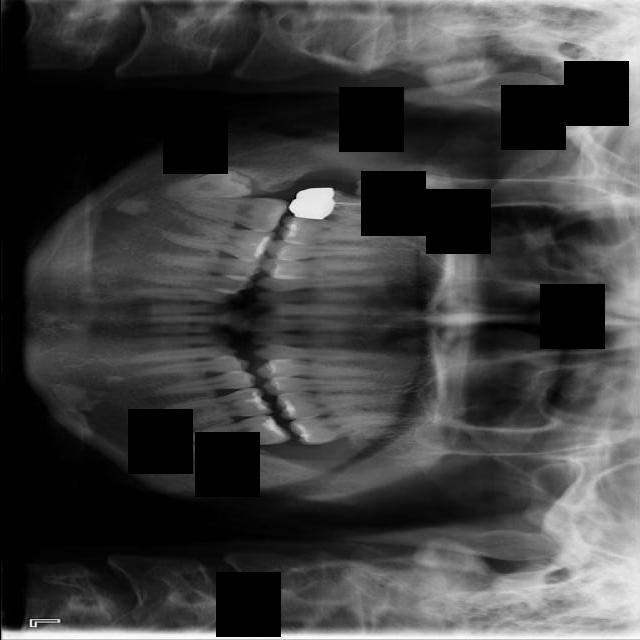3M ESPE Implant: (351, 169, 441, 207)
52: (230, 224, 277, 266), (274, 209, 323, 248), (286, 411, 331, 452), (273, 386, 317, 427), (253, 254, 312, 283), (287, 187, 335, 221), (241, 415, 291, 445), (229, 388, 273, 417), (264, 238, 313, 263), (254, 357, 300, 380), (261, 376, 303, 396), (222, 370, 258, 390)
73: (328, 189, 414, 229), (12, 624, 17, 632)
BioHorizons Implant: (288, 409, 403, 447)
Biomet 3i Implant: (164, 169, 252, 200)
Blue Sky Bio Implant: (176, 189, 289, 234), (172, 412, 292, 454)
Caries: (287, 185, 414, 225)
